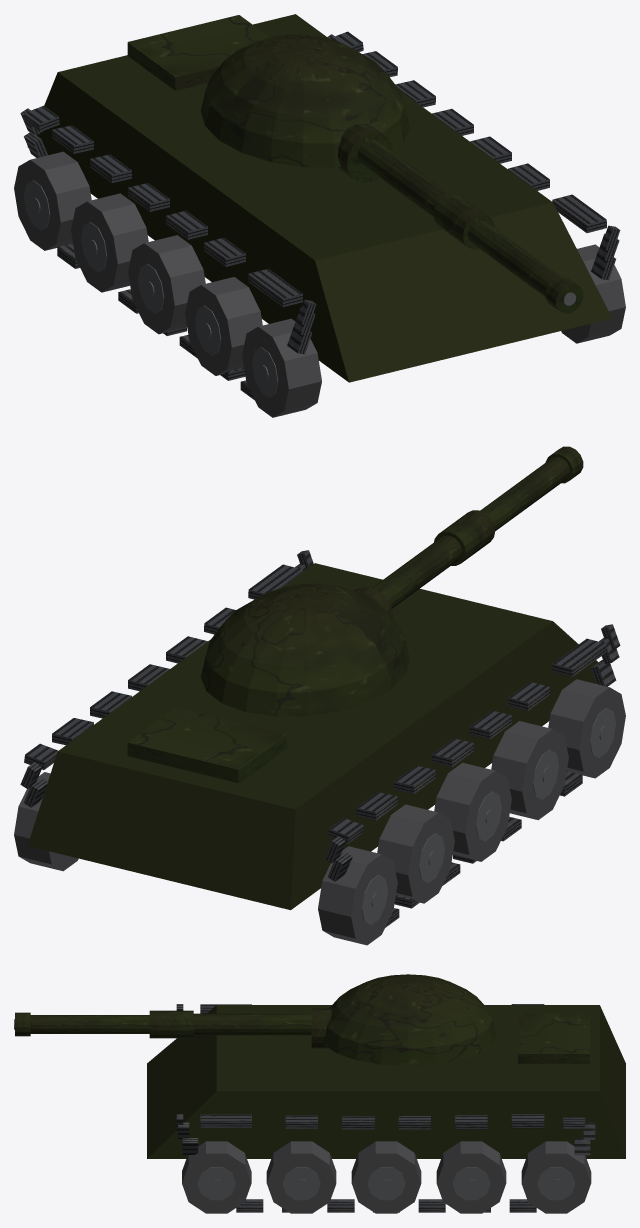
The model's file is jackal_LOD2.glb.
The picture shows the model from 3 angles, top to bottom: view 1: azimuth 30°, elevation 25°; view 2: azimuth 150°, elevation 25°; view 3: azimuth 270°, elevation 25°; orthographic projection. The views are drawn at different scales.
Visible parts, largest first — view 1: HullMesh, Wheels_L, TurretMesh, TrackL, TrackR, Gun_tube1, Gun_tube2, Wheels_R, Gun_ext, Gun_brk; view 2: HullMesh, Wheels_L, TurretMesh, TrackL, TrackR, Gun_tube1, Gun_tube2, Wheels_R, Gun_ext; view 3: HullMesh, Wheels_R, TurretMesh, TrackR, Gun_tube1, Gun_tube2, Gun_ext, Gun_brk.
Part boxes in pixels (bbox=[...]): HullMesh: bbox=[27, 14, 612, 382]; Wheels_L: bbox=[14, 151, 321, 417]; TurretMesh: bbox=[200, 34, 409, 182]; TrackL: bbox=[20, 105, 316, 399]; TrackR: bbox=[327, 31, 620, 280]; Gun_tube1: bbox=[357, 139, 449, 216]; Gun_tube2: bbox=[468, 221, 580, 309]; Wheels_R: bbox=[561, 244, 625, 343]; Gun_ext: bbox=[433, 194, 494, 249]; Gun_brk: bbox=[545, 276, 583, 313]; HullMesh: bbox=[27, 563, 598, 910]; Wheels_L: bbox=[318, 679, 625, 945]; TurretMesh: bbox=[200, 583, 409, 716]; TrackL: bbox=[324, 624, 620, 927]; TrackR: bbox=[20, 550, 313, 807]; Gun_tube1: bbox=[372, 535, 461, 608]; Gun_tube2: bbox=[480, 457, 570, 530]; Wheels_R: bbox=[14, 772, 78, 871]; Gun_ext: bbox=[434, 510, 495, 565]; HullMesh: bbox=[147, 1005, 625, 1158]; Wheels_R: bbox=[182, 1141, 591, 1213]; TurretMesh: bbox=[311, 974, 496, 1066]; TrackR: bbox=[176, 1114, 595, 1212]; Gun_tube1: bbox=[193, 1013, 311, 1035]; Gun_tube2: bbox=[30, 1015, 149, 1033]; Gun_ext: bbox=[149, 1010, 193, 1038]; Gun_brk: bbox=[15, 1012, 30, 1036].
Bounding box in the file's own units: 3.36 × 2.17 × 7.03.
5 materials, 3 textured.
